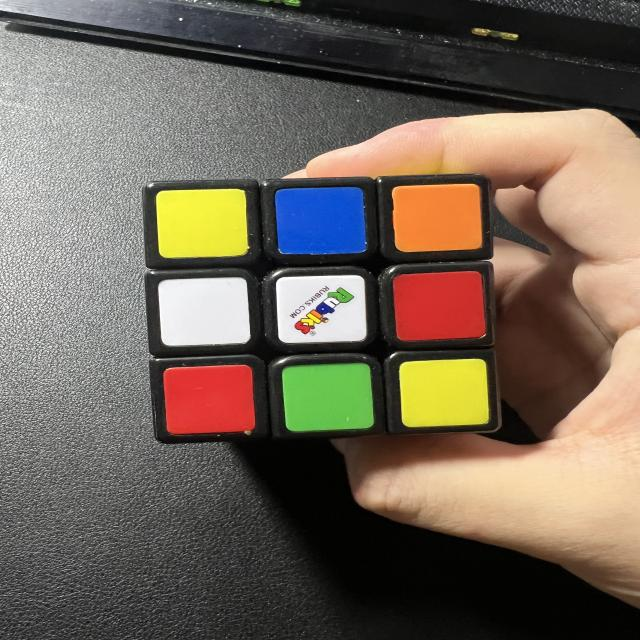blue: (275, 188, 366, 255)
center: (278, 276, 368, 342)
green: (284, 362, 373, 431)
orange: (394, 188, 479, 251)
red: (162, 364, 253, 433), (395, 273, 485, 339)
white: (155, 280, 251, 347)
yellow: (399, 360, 488, 427), (157, 191, 248, 256)
